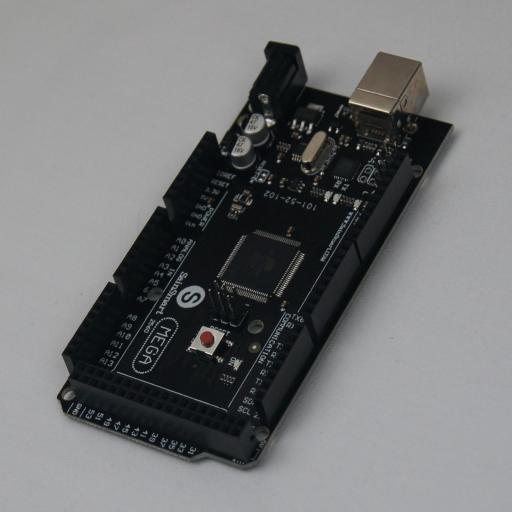Arduino Mega 2560 -Black-: (57, 41, 454, 471)
